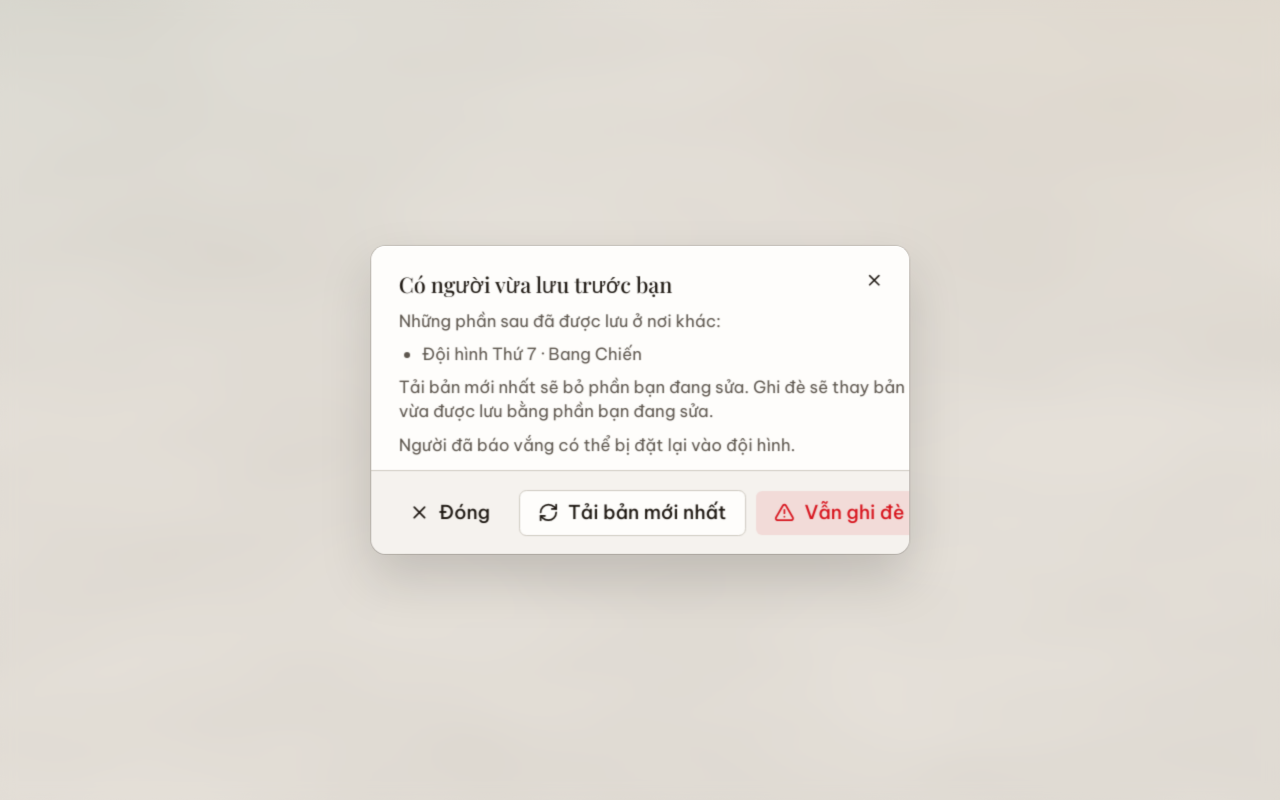
Test: SaveConflictDialog › đang ghi đè thì khoá cả ba nút
This screenshot has width=1280, height=800.
Click the button "Vẫn ghi đè": (840, 513) [755,490,924,536]
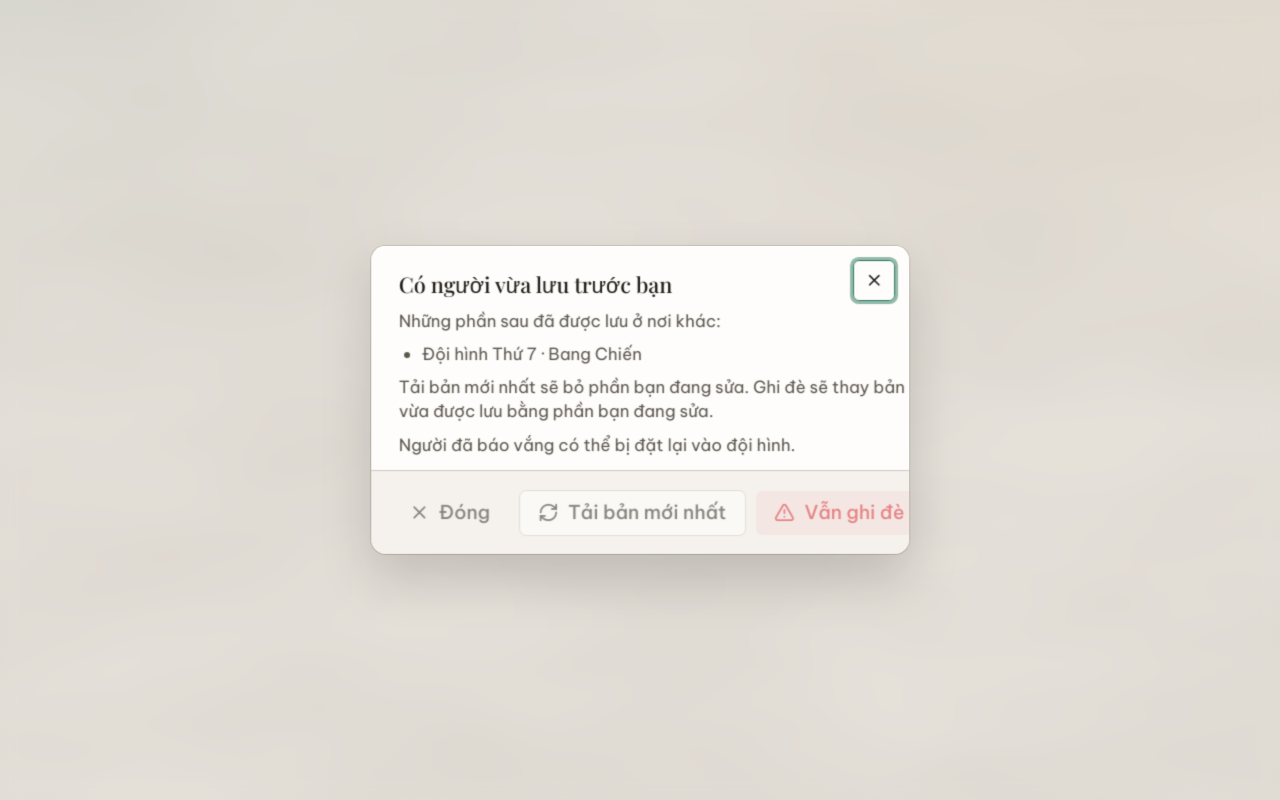
Expected: the button "Tải bản mới nhất" is disabled, [519,490,746,536]
Expected: the button "Vẫn ghi đè" is disabled, [755,490,909,536]
